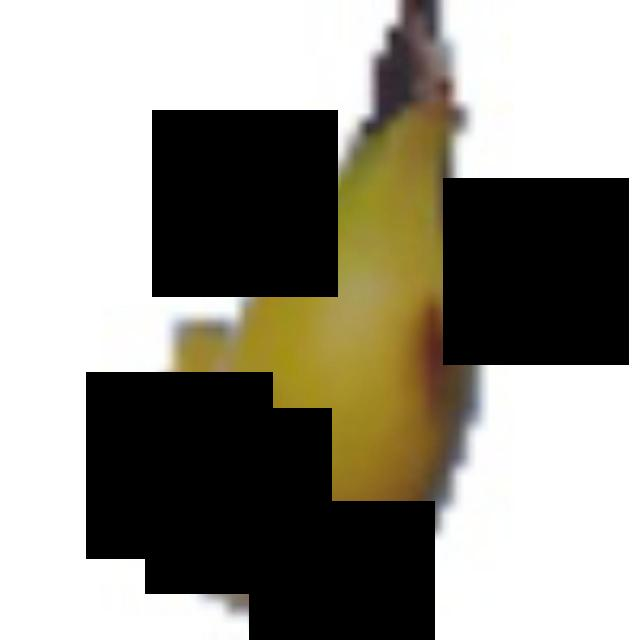banana: (117, 0, 497, 635)
